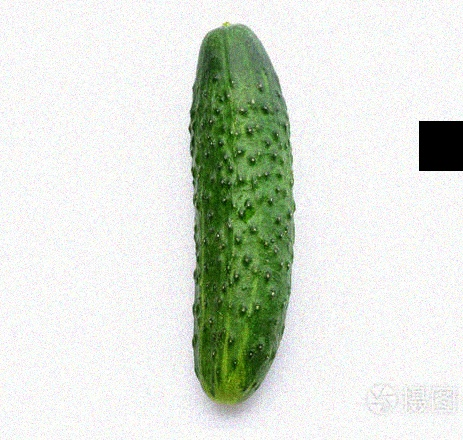cucumber: (185, 21, 291, 408)
